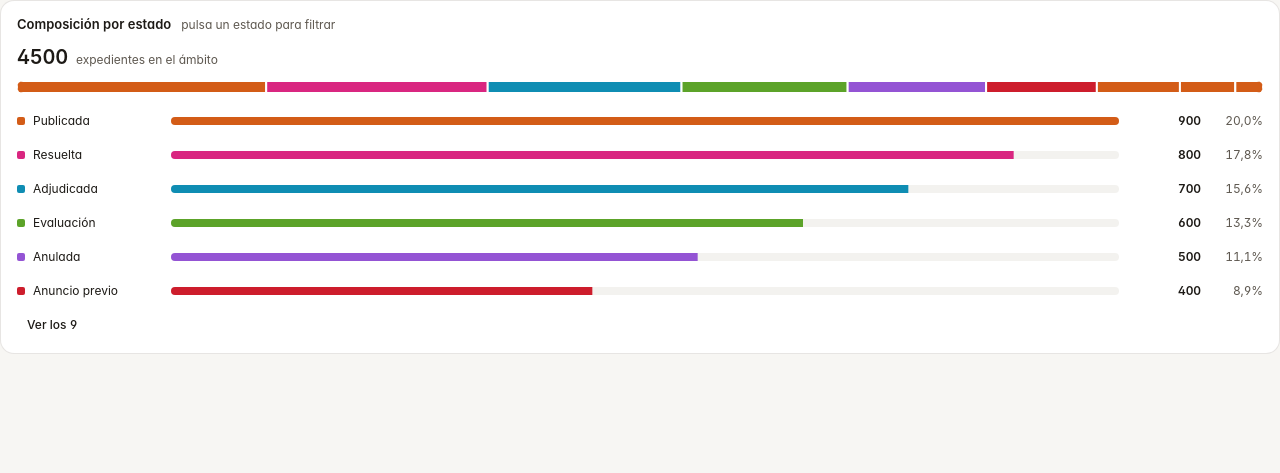
Test case: ComposicionPanel › muestra los estados mayores y el resto a un clic
Click the button "Ver los 9": (52, 325) [17,311,88,339]
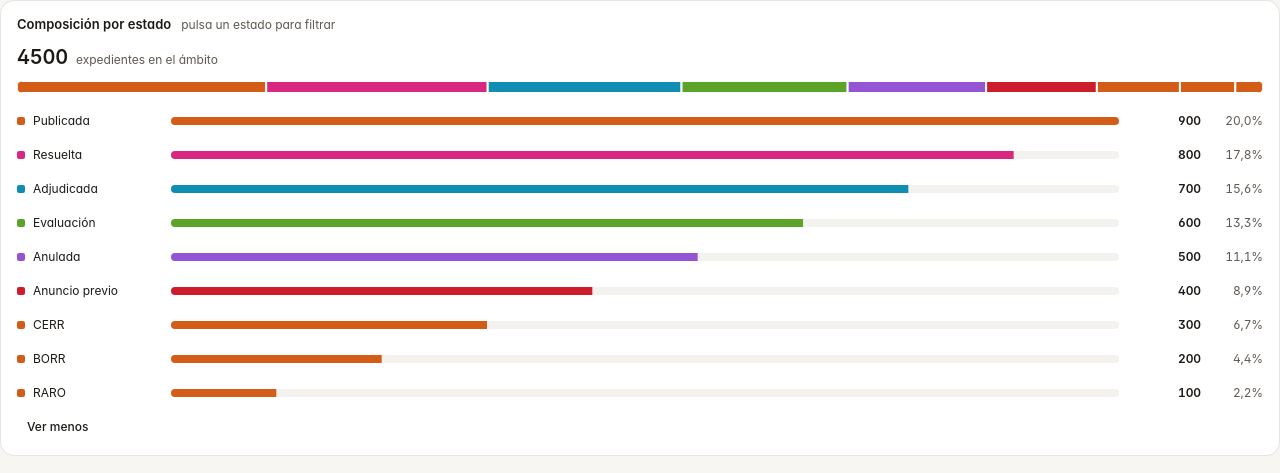
Result: the button "Ver menos" is expanded at [17,413,98,441]
